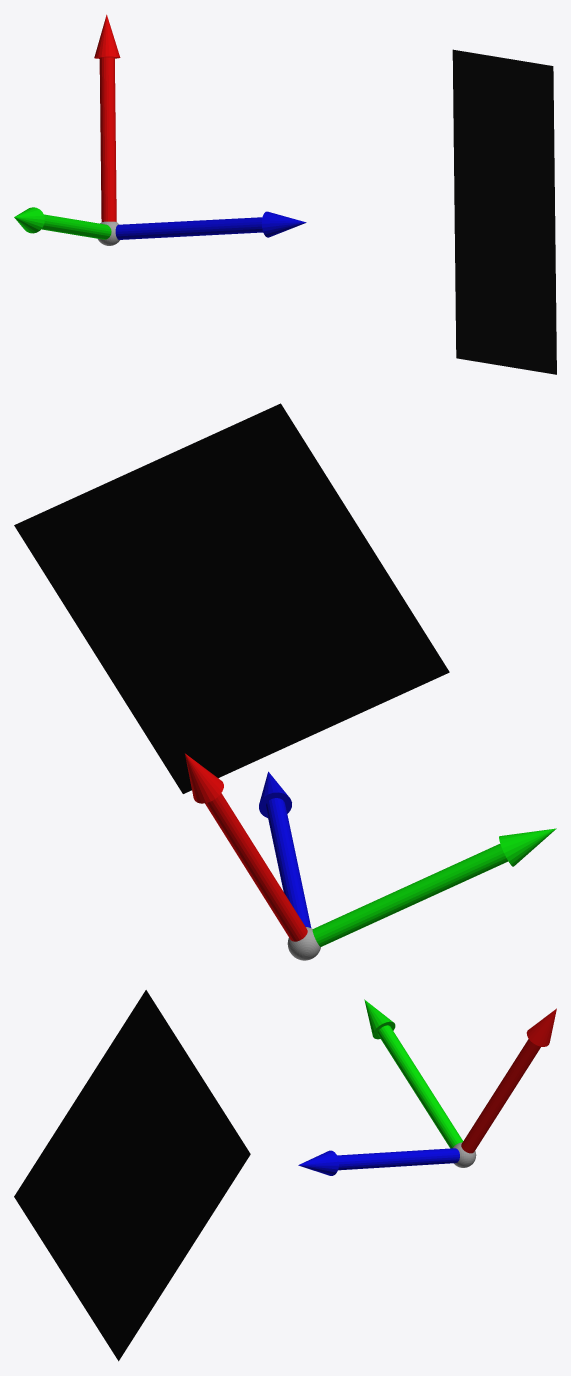
3 renders of one model, top to bottom at view 1: azimuth 30°, elevation 25°; view 2: azimuth 150°, elevation 25°; view 3: azimuth 270°, elevation 25°, orthographic. The views are drawn at different scales.
Size of the model in its own units: 0.3164 by 0.2117 by 0.3166.
